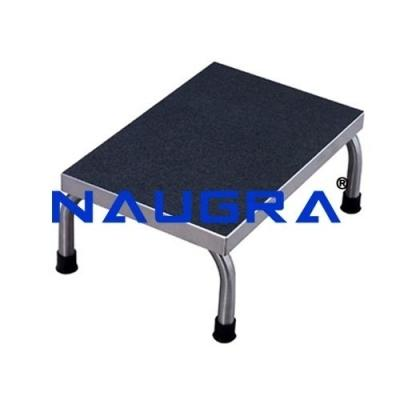stool: (46, 33, 386, 352)
